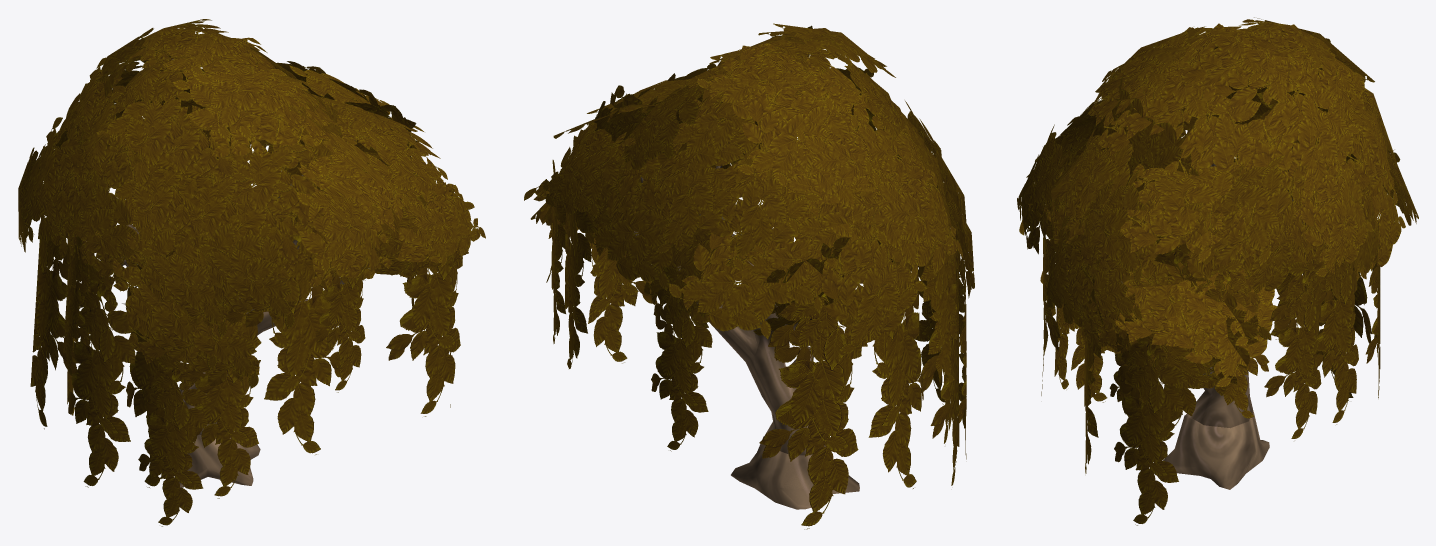
Rendered from tree_willow.fbx.
The picture shows the model from 3 angles, left to right: view 1: azimuth 30°, elevation 25°; view 2: azimuth 150°, elevation 25°; view 3: azimuth 270°, elevation 25°; orthographic projection. The views are drawn at different scales.
Parts seen in each view (by area): view 1: willow_leaf, willow_stump.001; view 2: willow_leaf, willow_stump.001; view 3: willow_leaf, willow_stump.001.
Part boxes in pixels (box(x1,y1,x2,y2)): willow_leaf: box(18, 19, 485, 526); willow_stump.001: box(178, 431, 260, 487); willow_leaf: box(524, 23, 974, 529); willow_stump.001: box(731, 436, 859, 509); willow_leaf: box(1017, 17, 1418, 525); willow_stump.001: box(1163, 411, 1269, 489).
Bounding box in the file's own units: 832 × 831 × 718.
